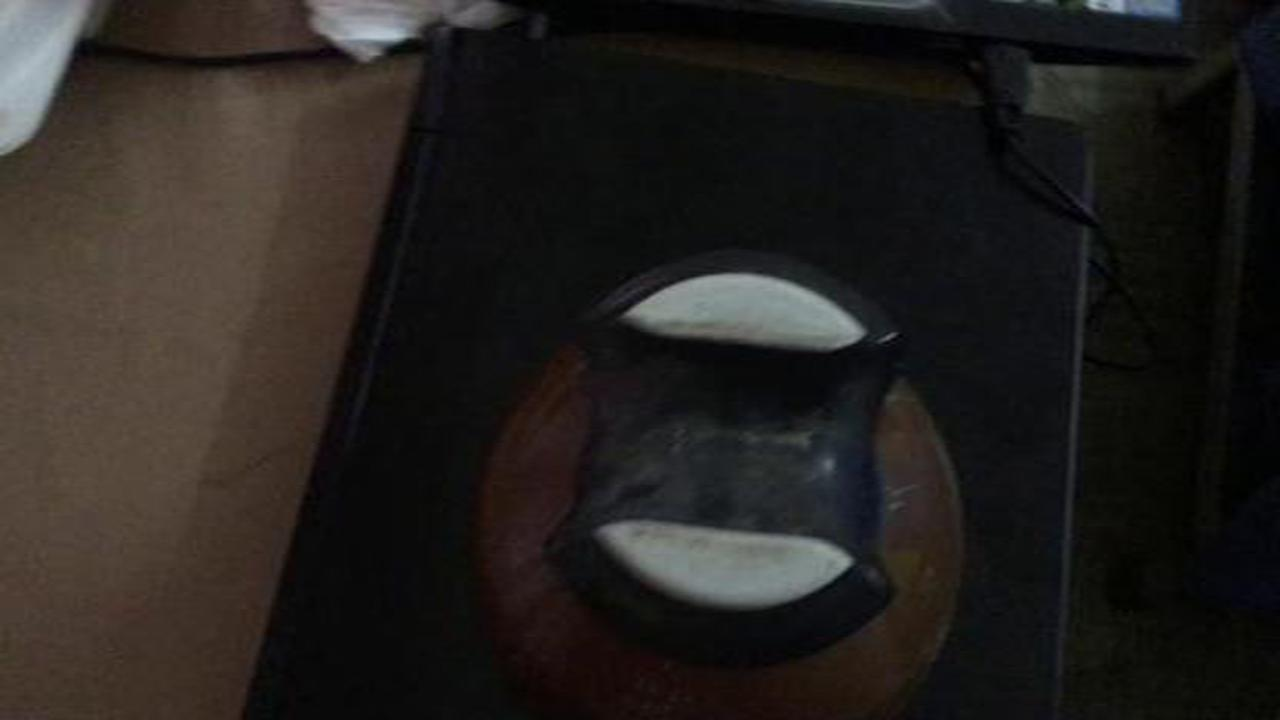insulator_pin: (456, 253, 997, 708)
